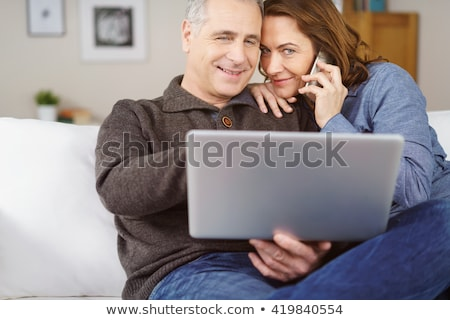phone: (307, 31, 346, 109)
talk: (260, 35, 358, 126)
